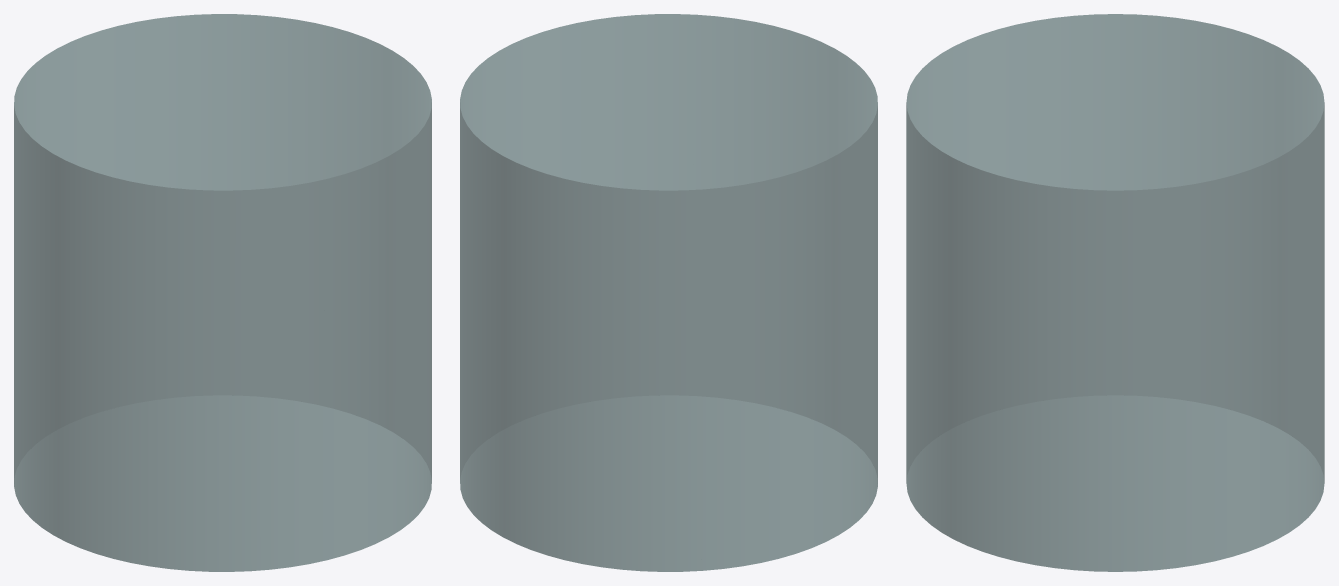
File: mdl_chazzyb_sci_canister.glb
3 renders of one model, left to right at view 1: azimuth 30°, elevation 25°; view 2: azimuth 150°, elevation 25°; view 3: azimuth 270°, elevation 25°, orthographic.
Parts seen in each view (by area): view 1: Cube_0; view 2: Cube_0; view 3: Cube_0.
Boxes of the visible parts, x1,y1,x2,y2 form: Cube_0: [14, 14, 431, 571]; Cube_0: [460, 14, 877, 571]; Cube_0: [906, 14, 1324, 571].
Bounding box in the file's own units: 1.99 × 2 × 1.99.
